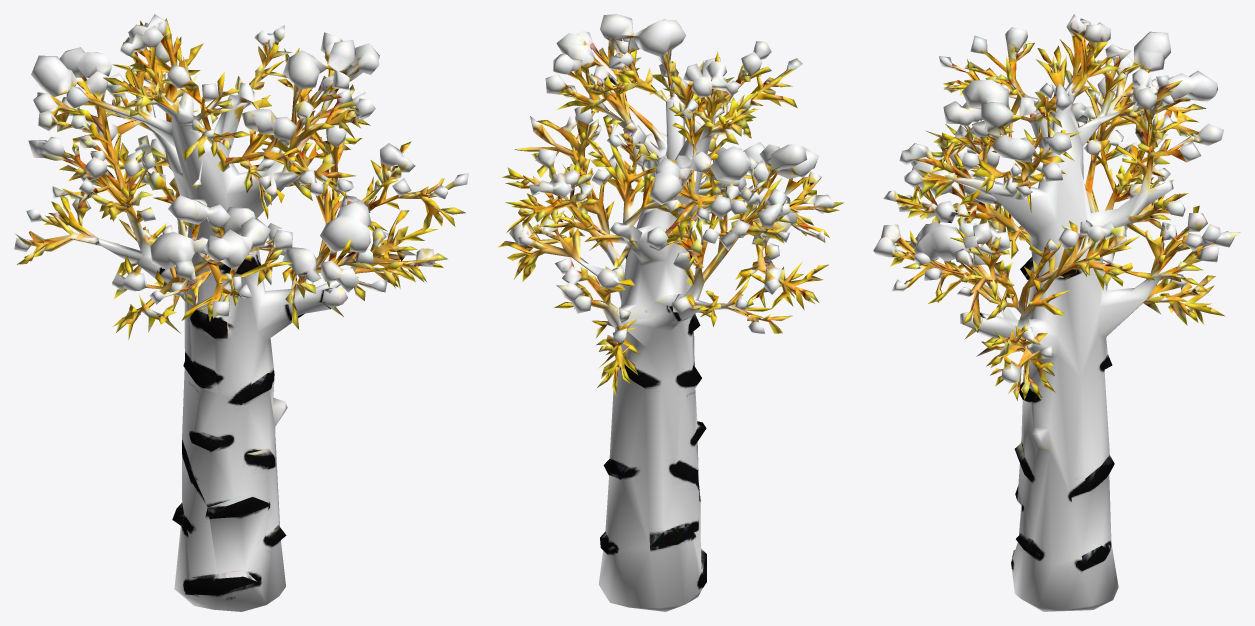
The model's file is birch.glb.
3 renders of one model, left to right at view 1: azimuth 30°, elevation 25°; view 2: azimuth 150°, elevation 25°; view 3: azimuth 270°, elevation 25°, orthographic. The views are drawn at different scales.
Visible parts, largest first — view 1: birch; view 2: birch; view 3: birch.
Part boxes in pixels (left/top/right/bottom): birch: left=14, top=14, right=468, bottom=611; birch: left=498, top=14, right=843, bottom=611; birch: left=873, top=14, right=1240, bottom=611.
Bounding box in the file's own units: 0.6593 × 1 × 0.6121.
1 material, 1 textured.
